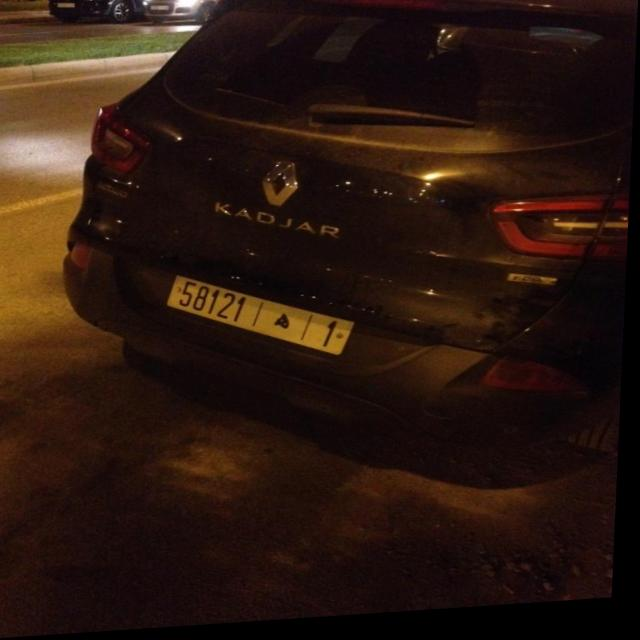License-Plate: (171, 280, 356, 360)
